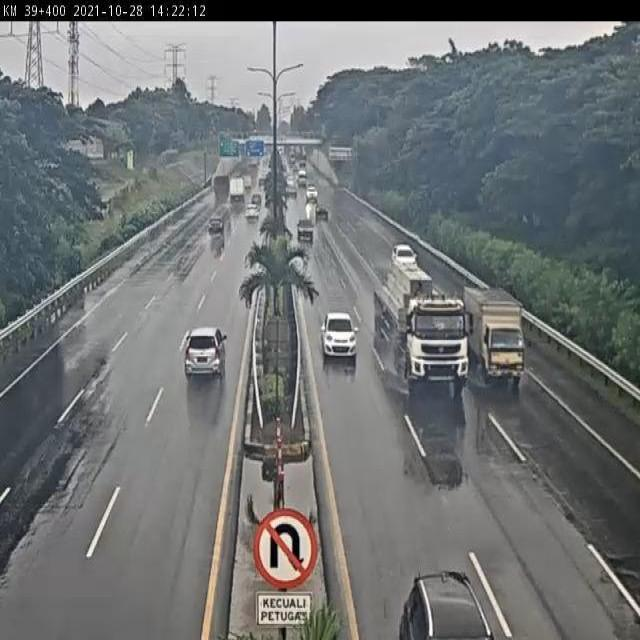car: (184, 325, 229, 383), (319, 308, 359, 365), (391, 241, 417, 271), (206, 212, 226, 237)
truck-s-: (465, 283, 527, 388)
truck-xl-: (376, 260, 470, 391)
